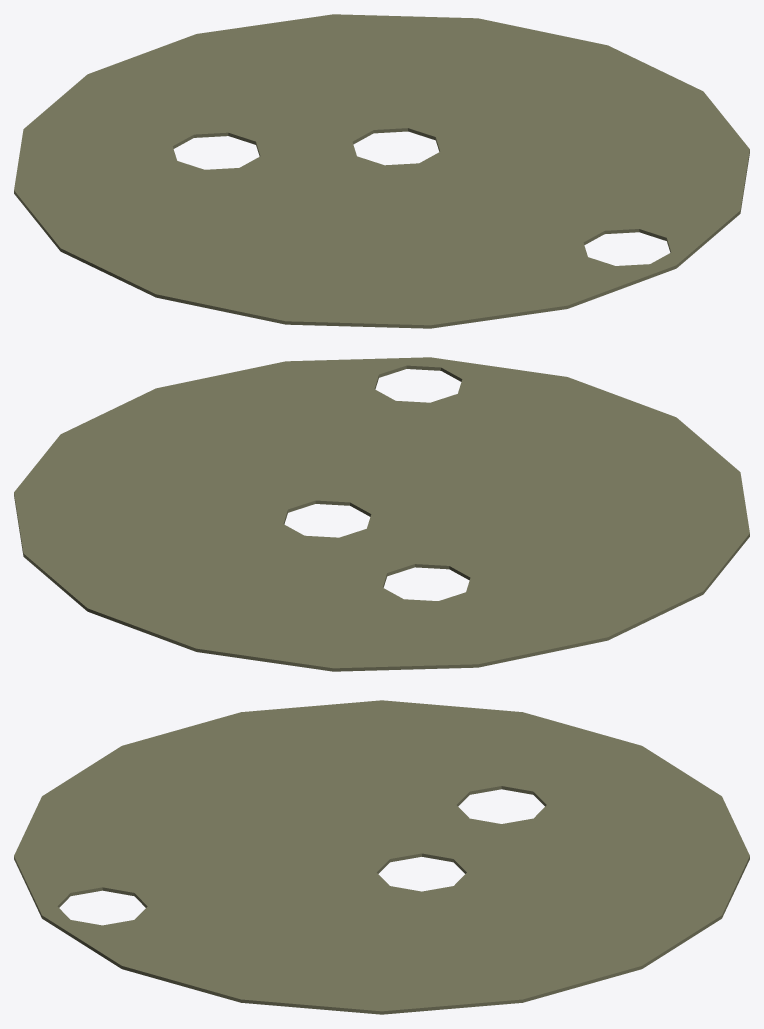
Rendered from rabbitHoleField.glb.
3 renders of one model, top to bottom at view 1: azimuth 30°, elevation 25°; view 2: azimuth 150°, elevation 25°; view 3: azimuth 270°, elevation 25°, orthographic.
Visible parts, largest first — view 1: fieldWholes; view 2: fieldWholes; view 3: fieldWholes.
Boxes of the visible parts, x1=… form: fieldWholes: x1=14, y1=14, x2=749, y2=328; fieldWholes: x1=14, y1=357, x2=749, y2=671; fieldWholes: x1=14, y1=700, x2=749, y2=1014.
Size of what is drawn, in the model's own units: 18.44 by 0.0922 by 18.44.
